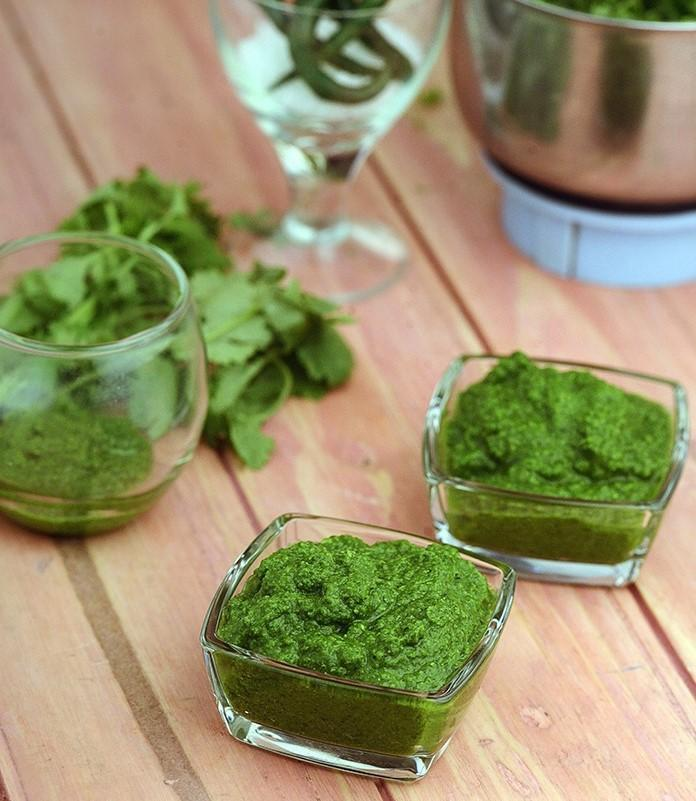GreenChutney: (212, 533, 489, 748), (436, 352, 673, 562), (2, 399, 152, 536)
